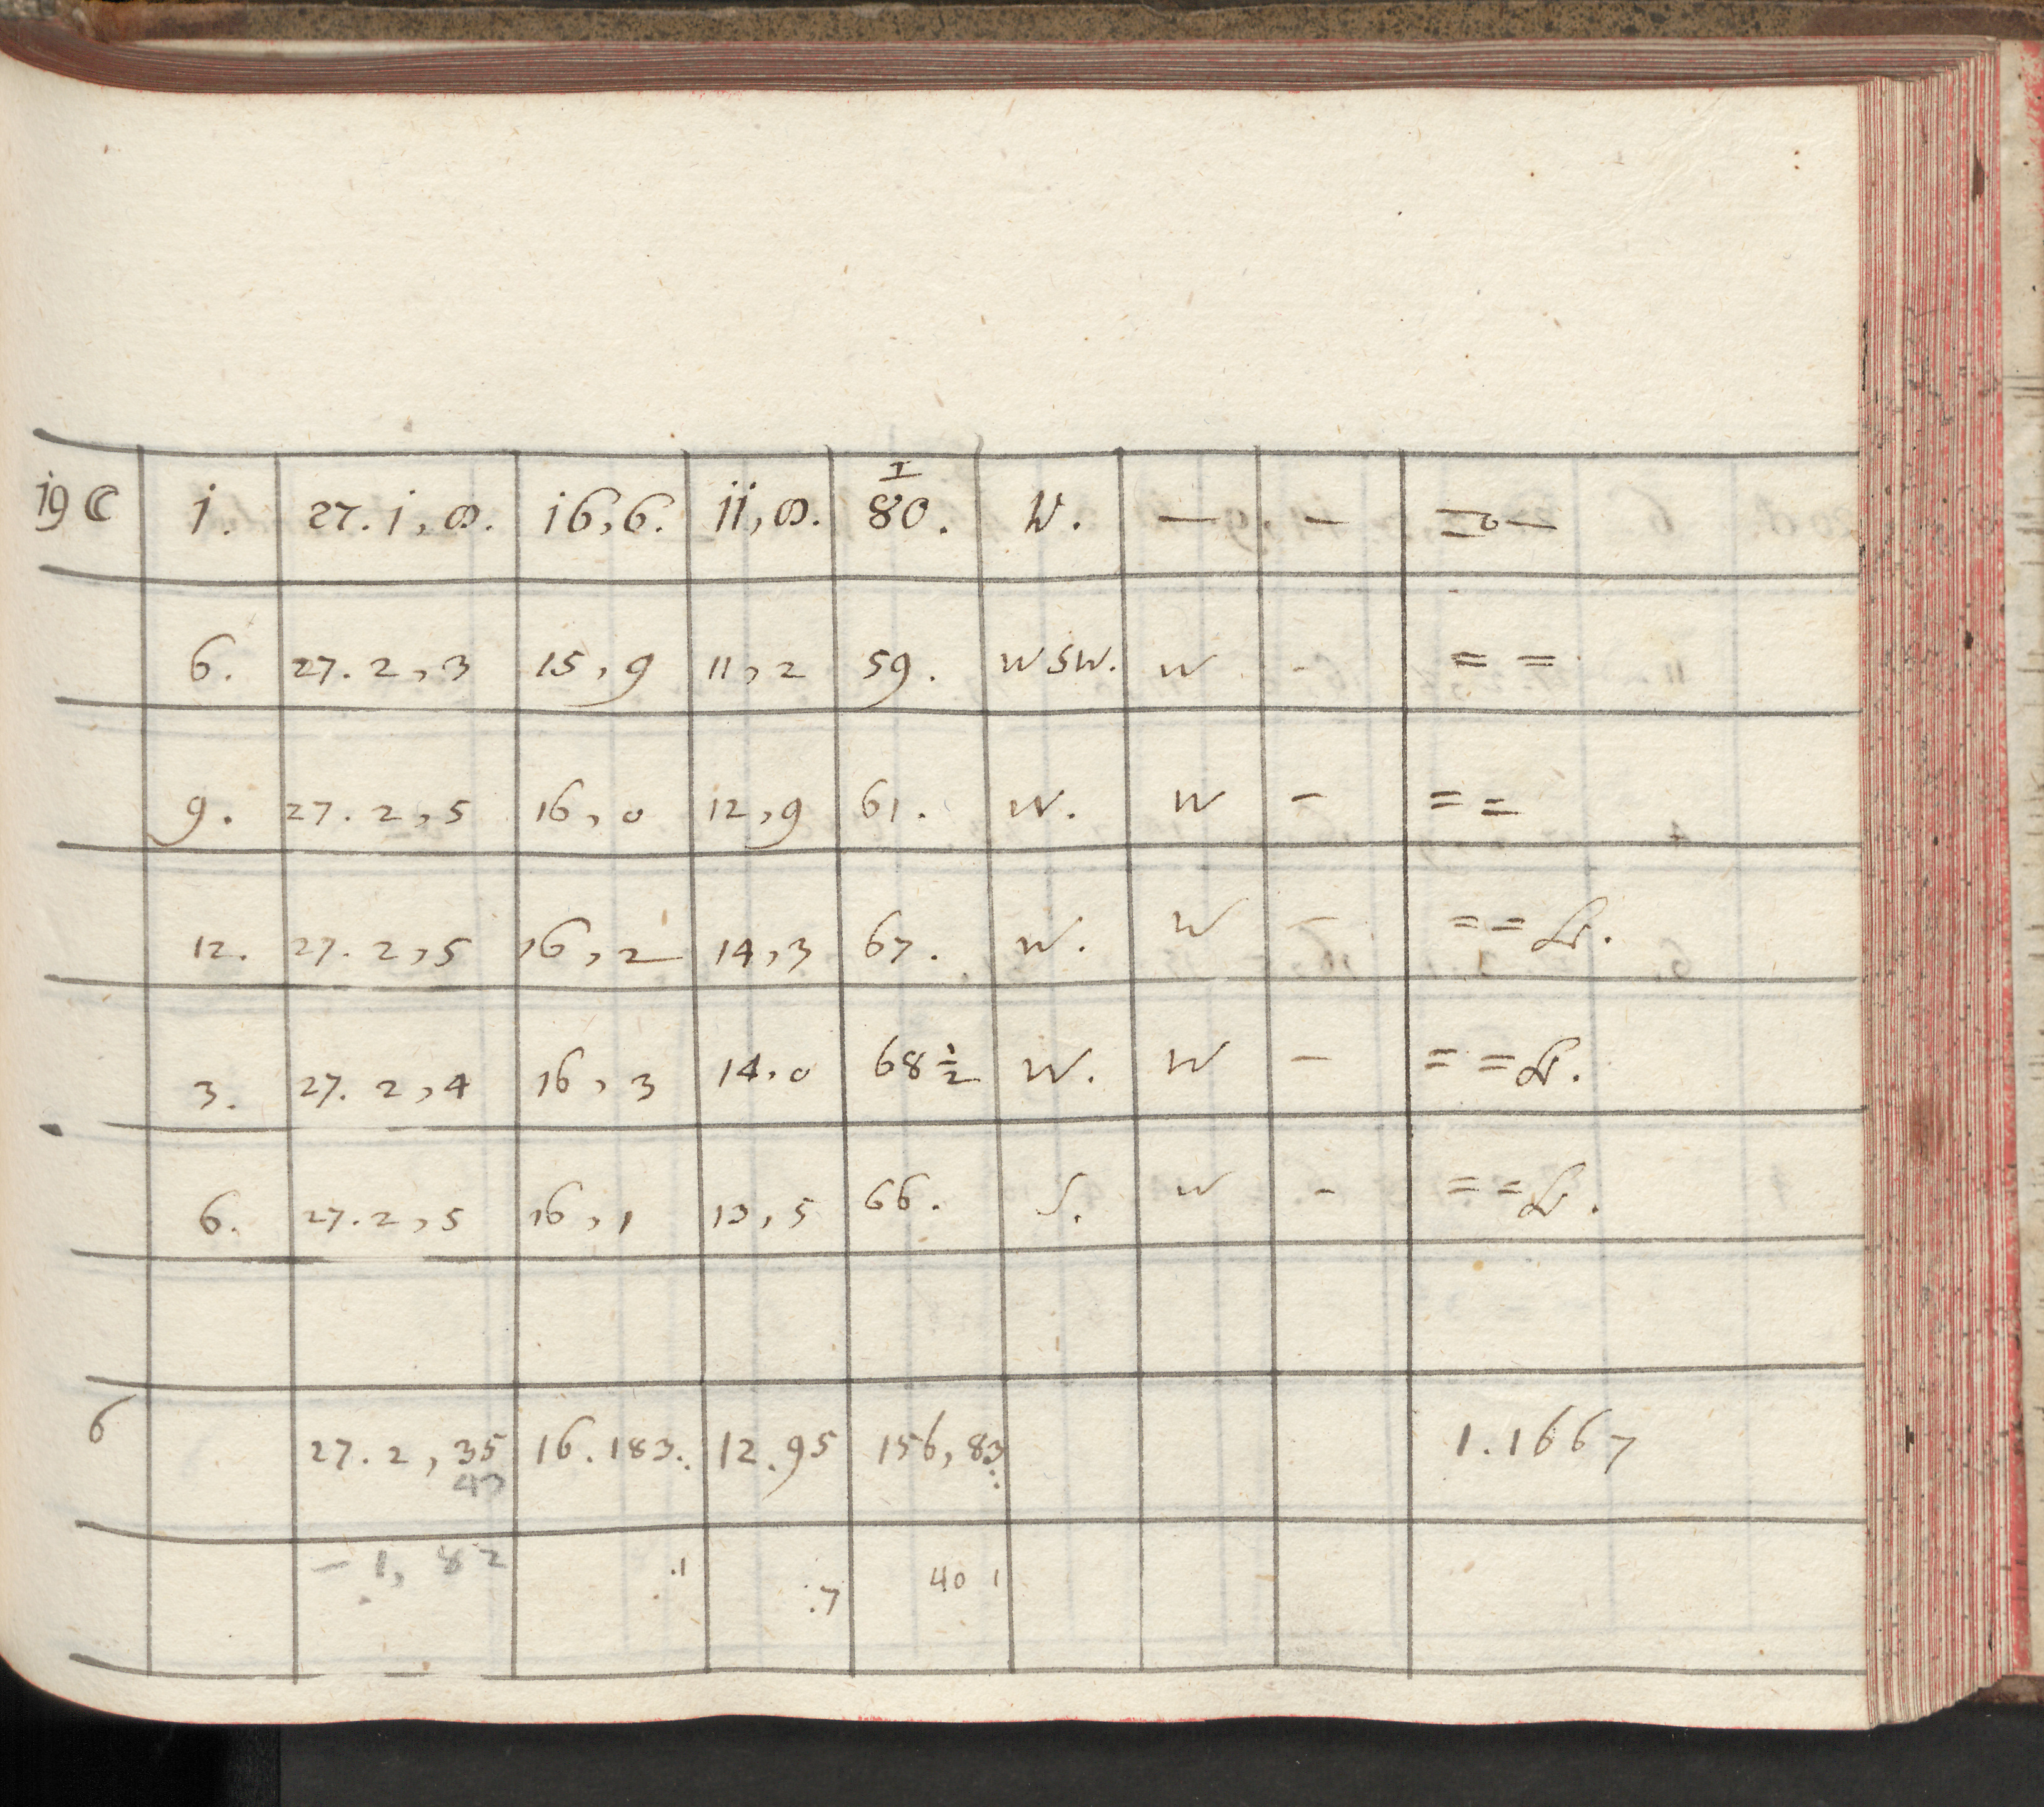bordered: (26, 436, 1864, 1678)
